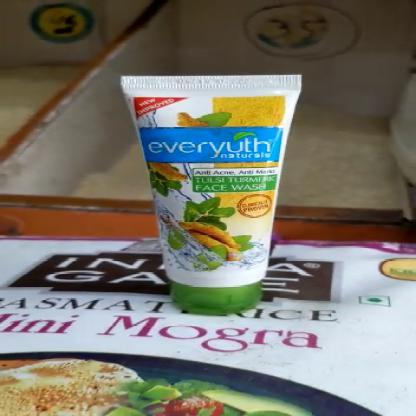EY AAAM TULSI TURMERIC FACEWASH50G: (137, 76, 278, 304)
